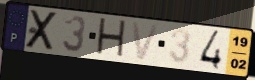3: (62, 14, 87, 54), (168, 27, 194, 65)
4: (198, 29, 224, 72)
H: (94, 16, 128, 61)
V: (130, 20, 162, 62)
X: (24, 8, 61, 52)
